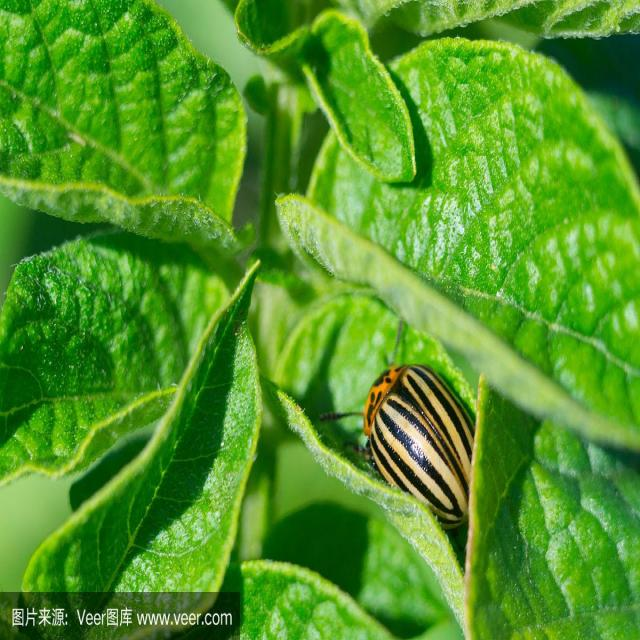ShuCaiHuaBanChong-Grown-: (355, 353, 515, 547)
